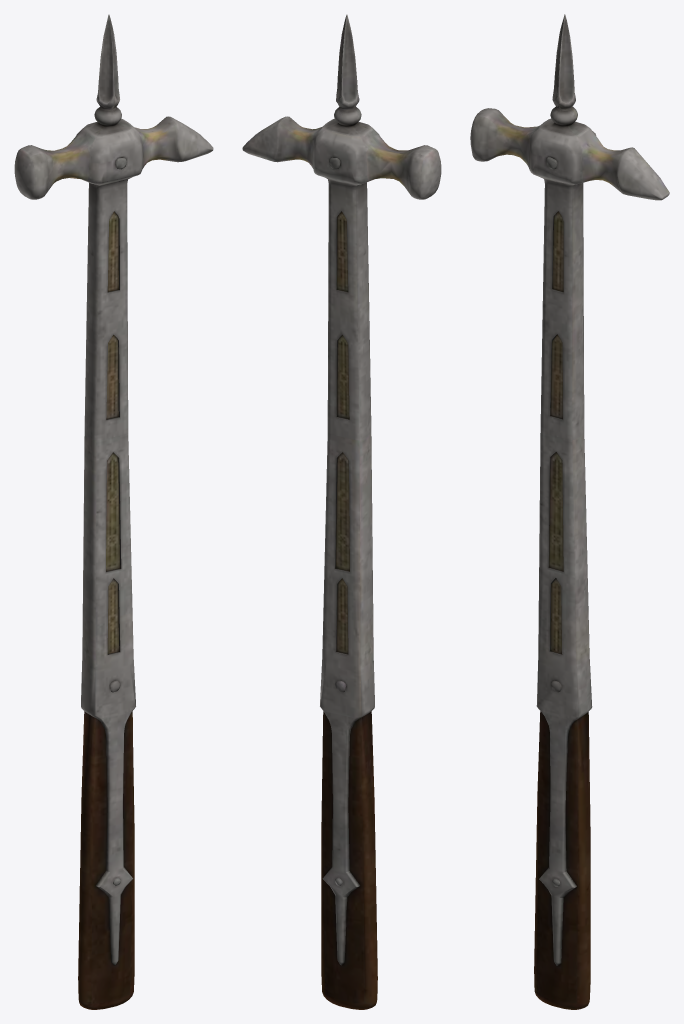
The model's file is ornate_war_hammer.glb.
The picture shows the model from 3 angles, left to right: view 1: azimuth 30°, elevation 25°; view 2: azimuth 150°, elevation 25°; view 3: azimuth 330°, elevation 25°; orthographic projection.
Visible parts, largest first — view 1: ornate_war_hammer; view 2: ornate_war_hammer; view 3: ornate_war_hammer.
Boxes of the visible parts, x1,y1,x2,y2 form: ornate_war_hammer: (14,14,213,1009); ornate_war_hammer: (242,14,441,1009); ornate_war_hammer: (470,14,669,1009).
Bounding box in the file's own units: 0.1438 × 0.7112 × 0.0348.
Materials: 1 (1 with a texture image).
